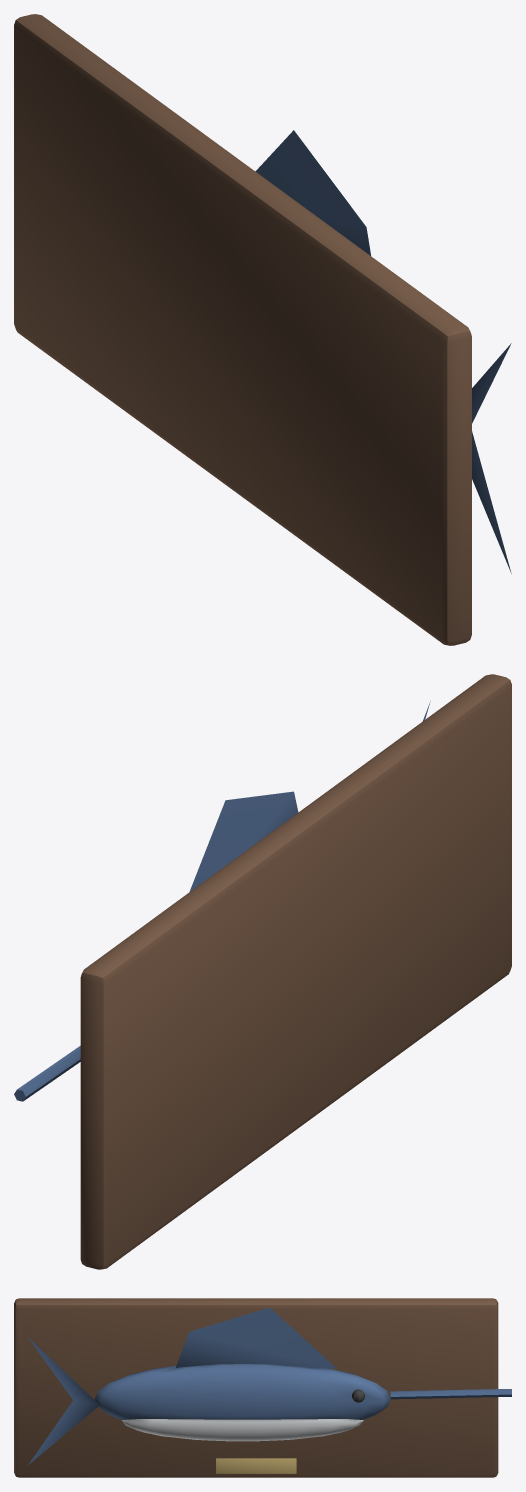
Rendered from marlin.glb.
3 renders of one model, top to bottom at view 1: azimuth 30°, elevation 25°; view 2: azimuth 150°, elevation 25°; view 3: azimuth 270°, elevation 25°, orthographic. The views are drawn at different scales.
Parts seen in each view (by area): view 1: boat_darkwood, boat_marlinb; view 2: boat_darkwood, boat_marlinb; view 3: boat_darkwood, boat_marlinb, boat_marlinl, boat_brass2.
Part boxes in pixels (<box>): boat_darkwood: <box>14,14,471,645</box>; boat_marlinb: <box>255,130,511,573</box>; boat_darkwood: <box>80,674,511,1269</box>; boat_marlinb: <box>14,701,430,1101</box>; boat_darkwood: <box>14,1298,498,1477</box>; boat_marlinb: <box>28,1307,511,1465</box>; boat_marlinl: <box>122,1419,363,1441</box>; boat_brass2: <box>216,1458,296,1473</box>.
Bounding box in the file's own units: 0.26 × 0.76 × 1.85.
